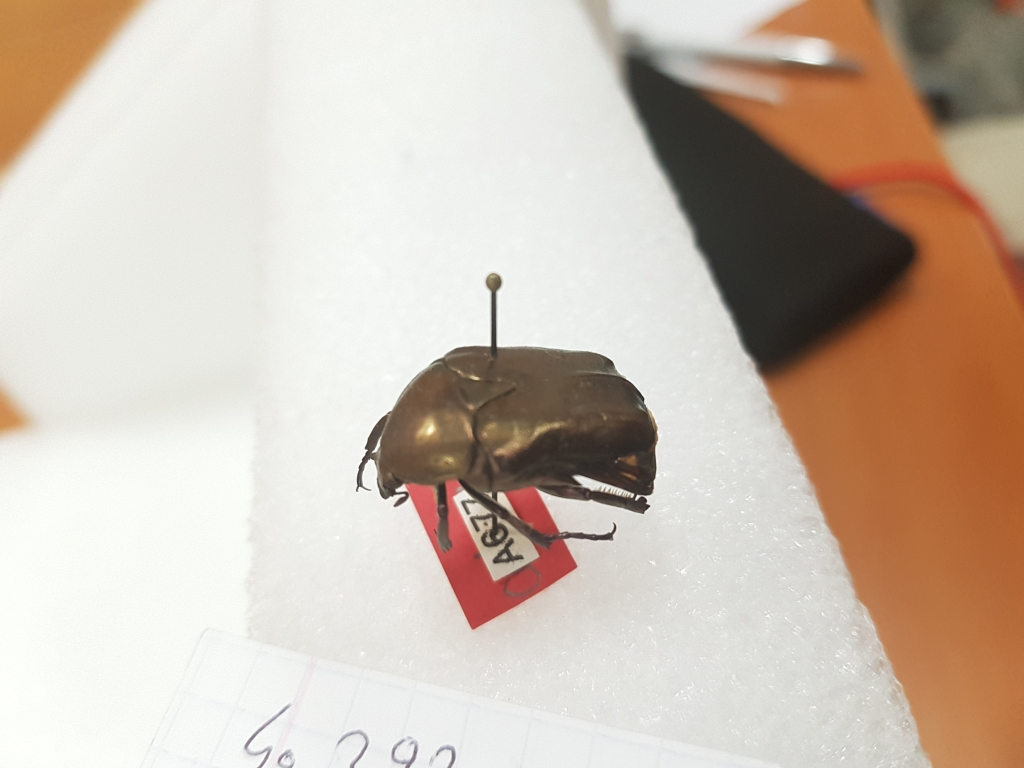Protaetia_cuprina_cuprina: (348, 341, 659, 548)
